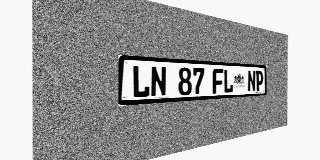7: (192, 68, 204, 95)
8: (178, 67, 192, 96)
F: (213, 69, 223, 94)
L: (132, 65, 150, 98), (223, 69, 233, 93)
N: (150, 66, 167, 97), (248, 70, 256, 92)
P: (256, 70, 263, 91)
